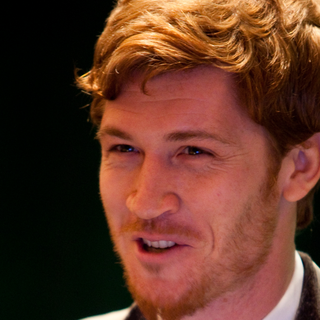eye: (168, 136, 217, 163), (103, 138, 146, 162)
